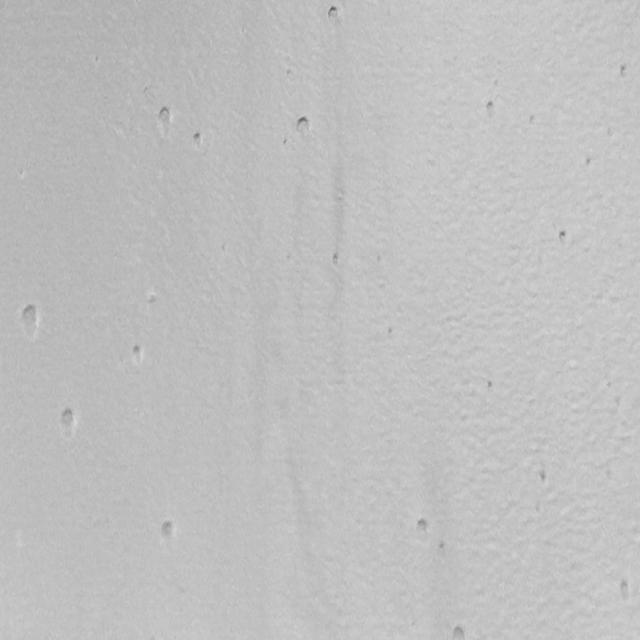pin holes: (18, 302, 42, 338), (58, 405, 81, 435), (157, 517, 180, 544), (153, 106, 174, 135), (293, 115, 315, 142), (413, 516, 435, 541), (616, 577, 636, 604), (482, 98, 502, 123), (534, 465, 554, 489), (189, 130, 208, 154), (323, 2, 343, 24), (129, 342, 148, 365), (447, 623, 470, 640), (328, 247, 344, 270), (146, 292, 164, 311), (556, 228, 572, 248), (617, 61, 632, 80), (582, 154, 596, 170), (483, 378, 497, 392), (279, 134, 291, 149), (385, 326, 395, 338), (439, 540, 444, 553)
